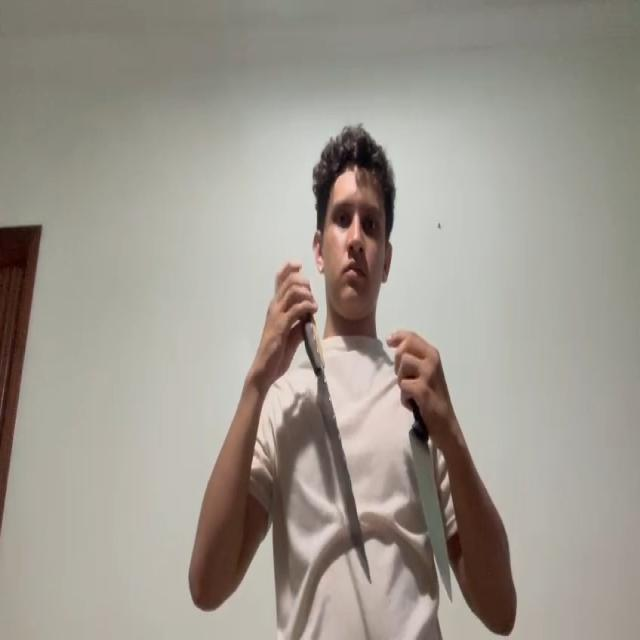knife: (316, 373, 370, 577), (408, 426, 452, 598)
